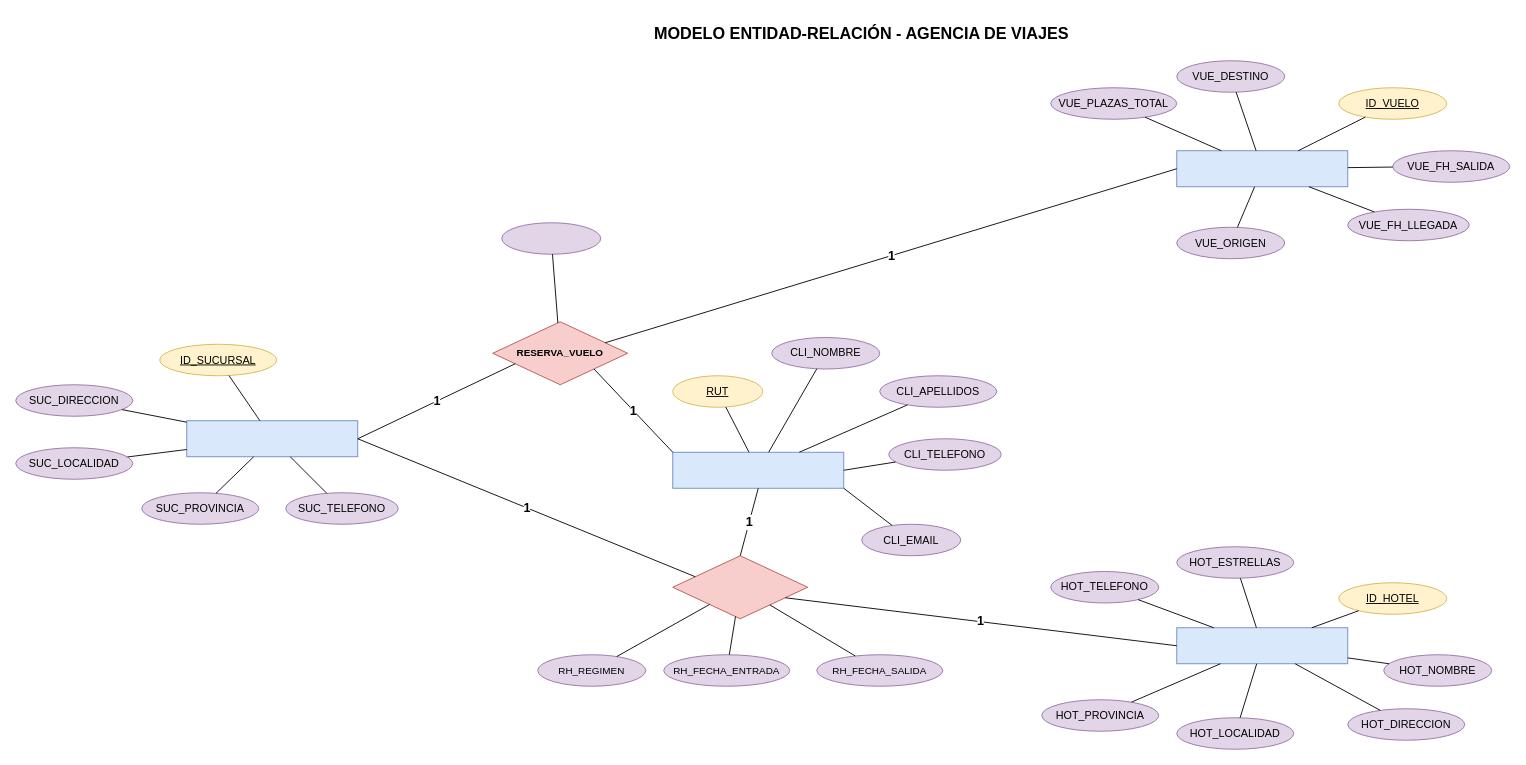
Some shapes in this 1526 by 765 pixel diagram are drawn without their labels. The shapes that lost their labels are listed below. From the top down, each one's box as (x1, y1, x2, y2) in pixels, then its label:
(1176, 150, 1348, 187): VUELO
(501, 222, 601, 254): RV_CLASE
(186, 420, 358, 457): SUCURSAL
(672, 451, 844, 488): CLIENTE
(672, 555, 808, 619): RESERVA_HOTEL
(1176, 627, 1348, 664): HOTEL
